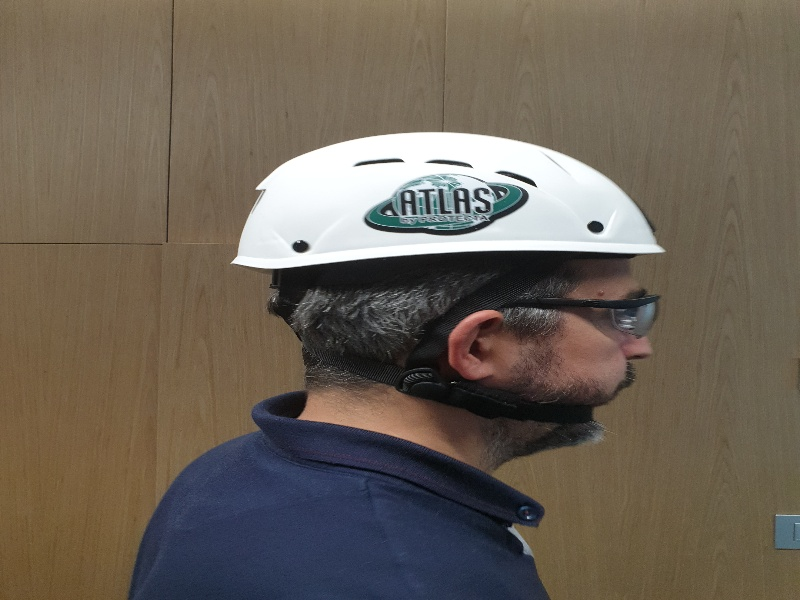Baret: (231, 131, 669, 265)
Gozluk: (509, 289, 663, 337)
